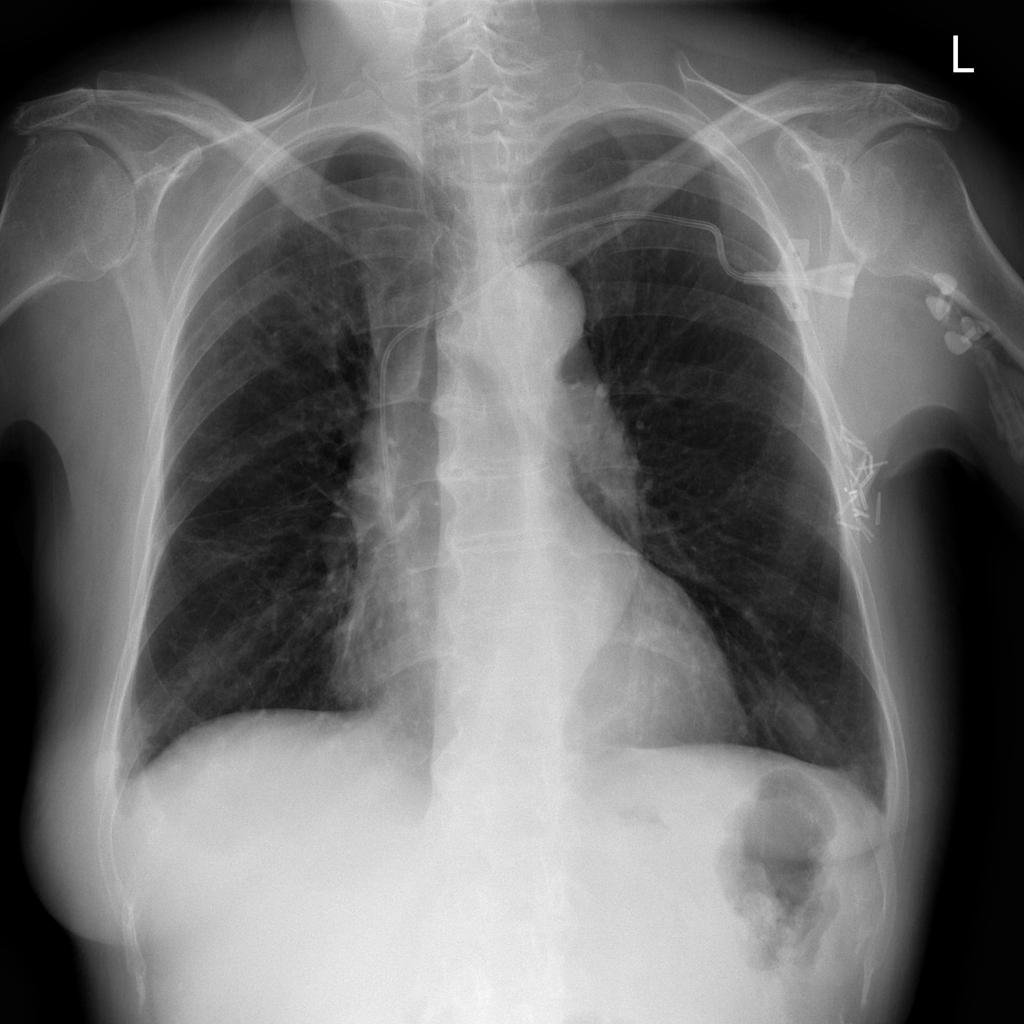nodule: (761, 682, 835, 757)
